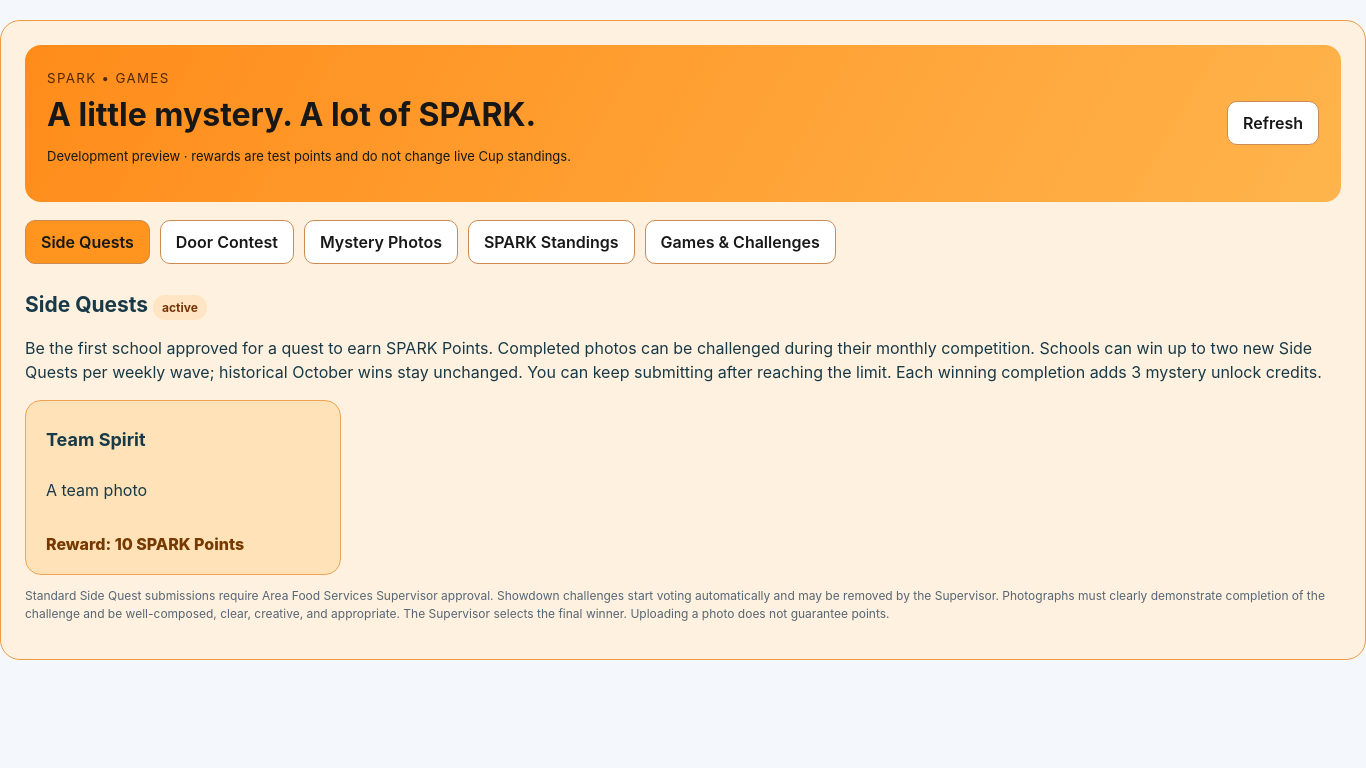
Test case: supervisor sections group quest controls and collapse monthly mysteries
Click the button "Games & Challenges" at (740, 242), box x1=645 y1=220 x2=836 y2=264
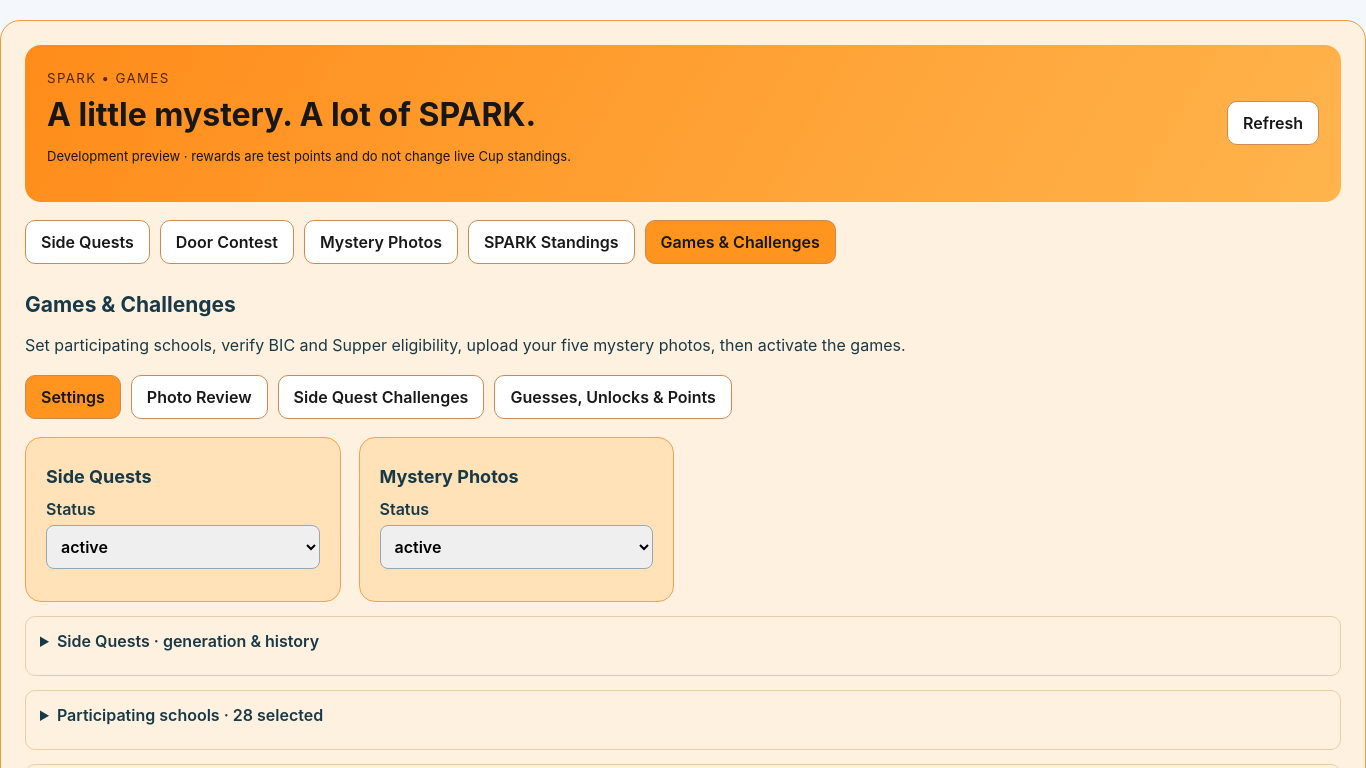
Click the button "Guesses, Unlocks & Points" at (613, 396), box x1=494 y1=374 x2=732 y2=418
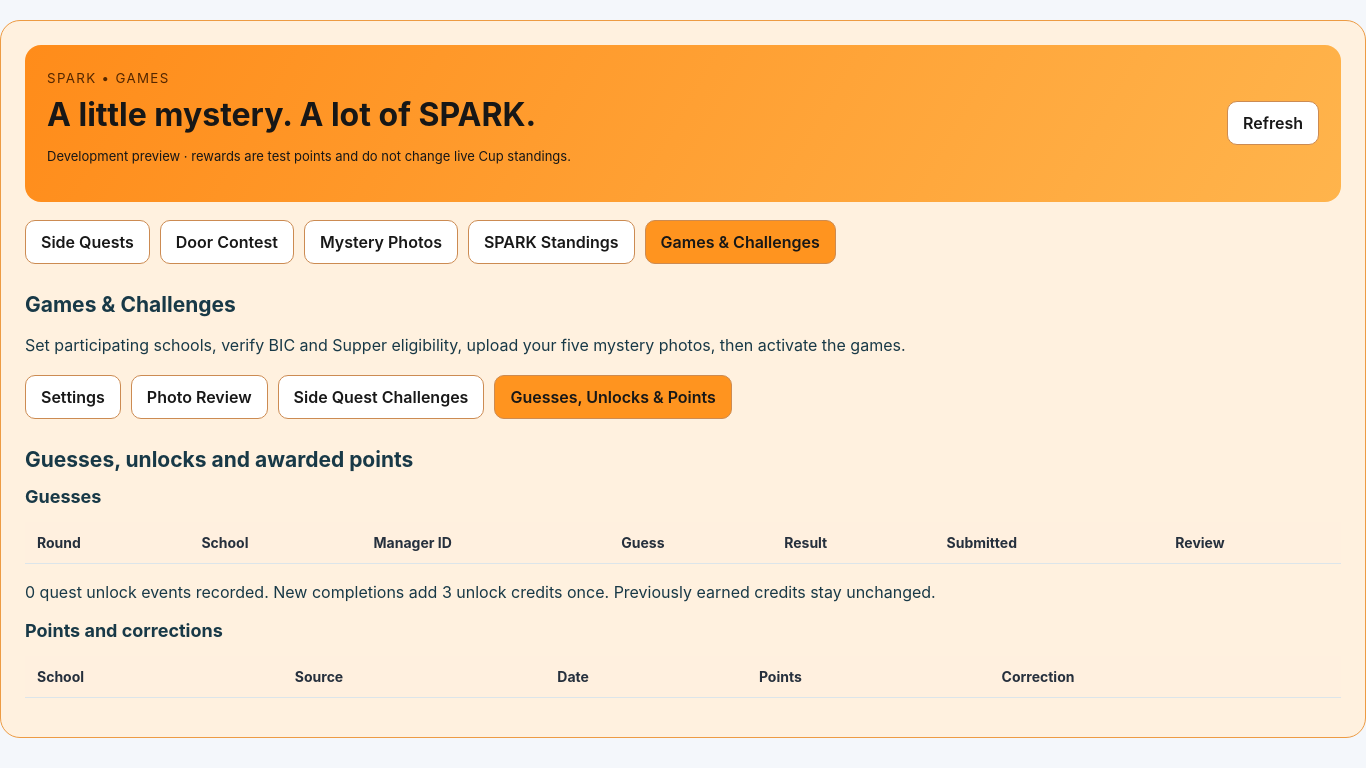
Now the text "Points and corrections" is shown, box x1=25 y1=620 x2=223 y2=640
Click the button "Settings" at (73, 396), box x1=25 y1=374 x2=121 y2=418
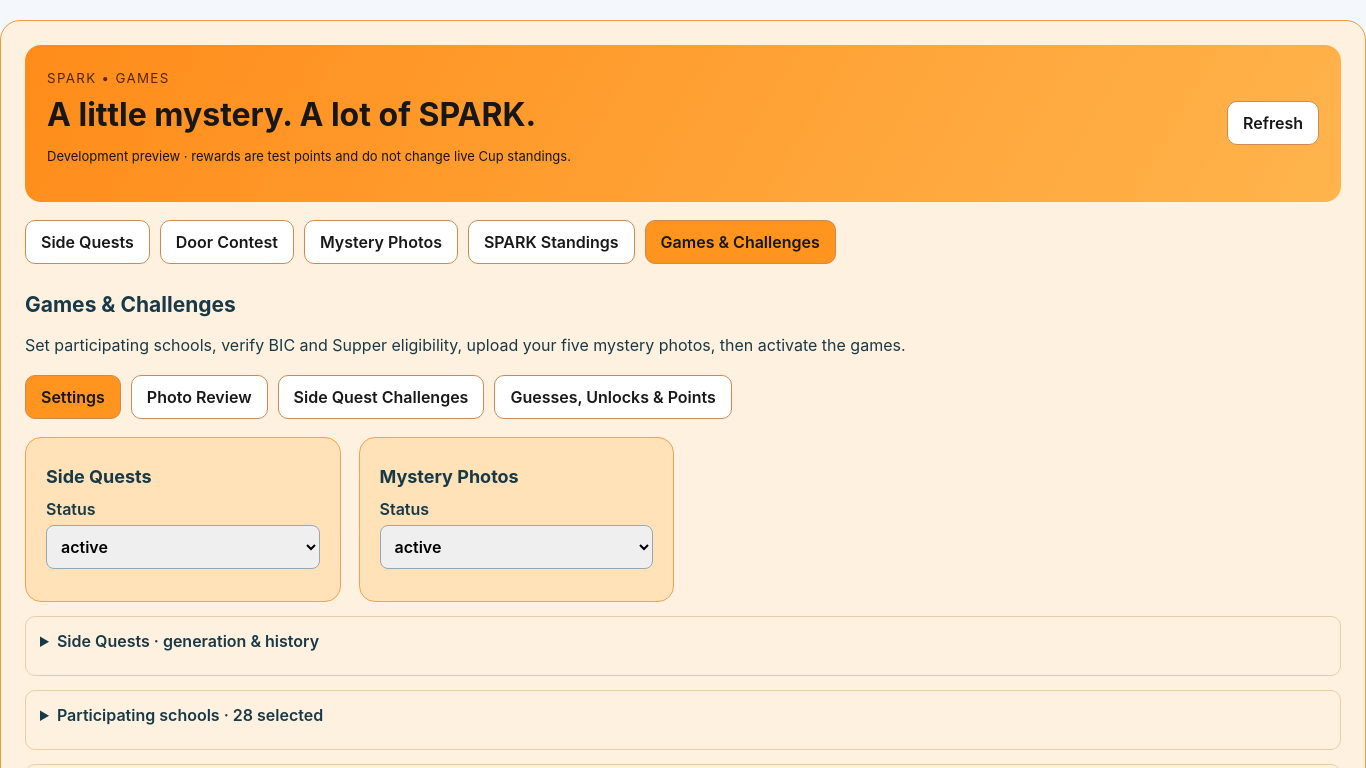
Now the element with class "og-quest-management" is shown, box x1=25 y1=616 x2=1341 y2=676
